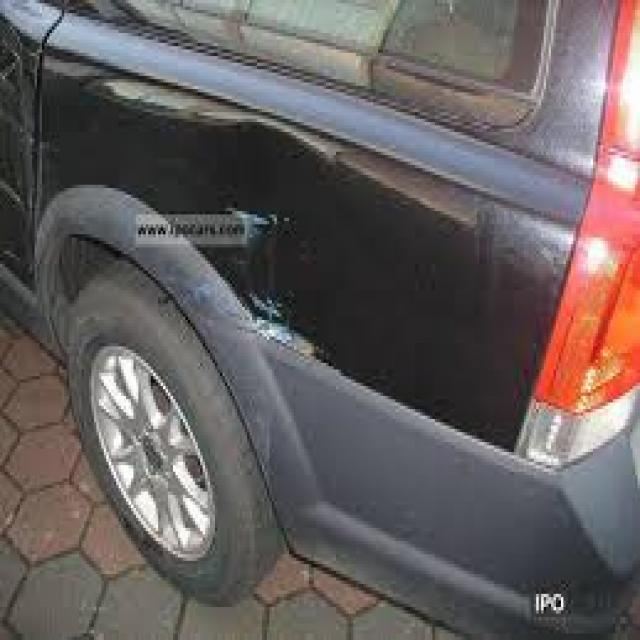minor: (49, 101, 580, 434)
